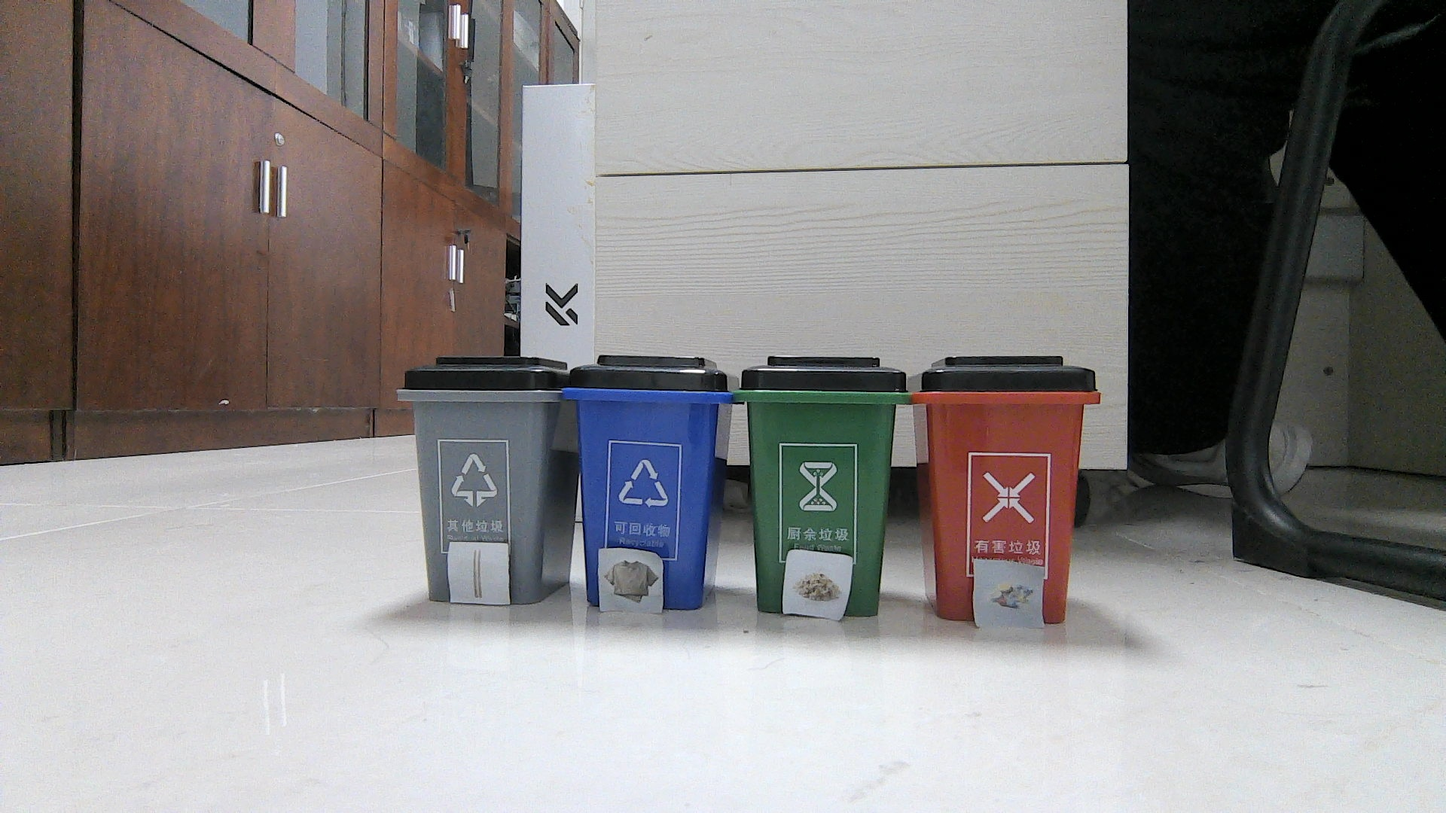food_trash: (787, 556, 846, 614)
hazardous_trash: (977, 565, 1041, 625)
other_trash: (450, 546, 505, 603)
recyclable_trash: (601, 551, 659, 611)
